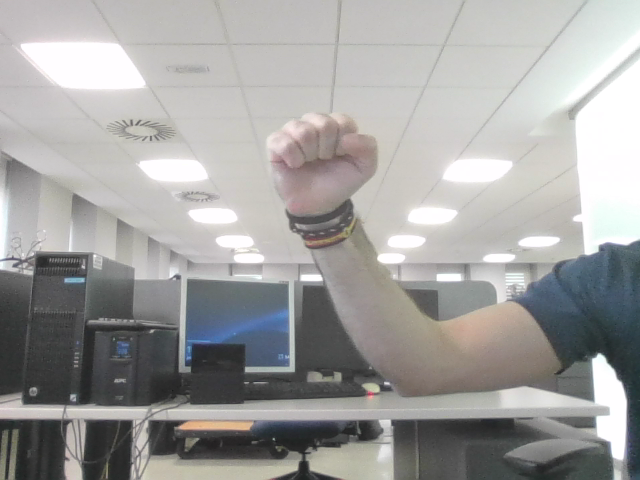Puño: (278, 123, 364, 191)
